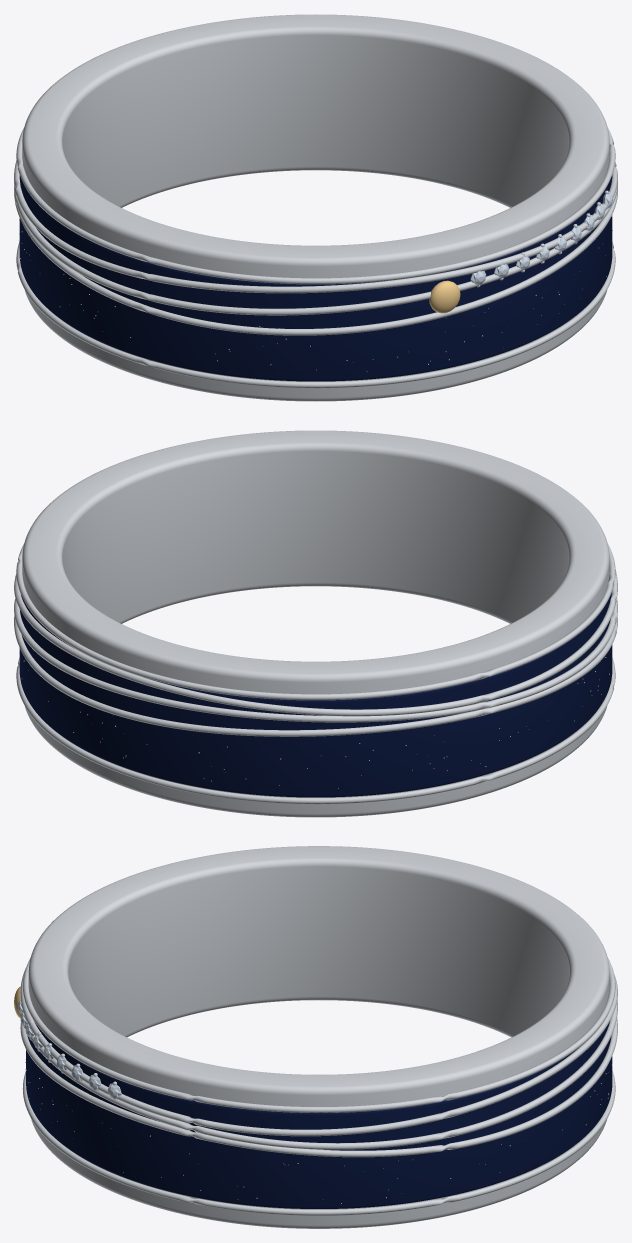
Rendered from emoria-echo.glb.
3 views of the same model, one above another, from view 1: azimuth 30°, elevation 25°; view 2: azimuth 150°, elevation 25°; view 3: azimuth 270°, elevation 25° (orthographic).
Visible parts, largest first — view 1: Polished silver, Midnight blue enamel, Brilliant crystal, Warm gold; view 2: Polished silver, Midnight blue enamel; view 3: Polished silver, Midnight blue enamel, Brilliant crystal.
Boxes of the visible parts, x1,y1,x2,y2 form: Polished silver: [14, 14, 617, 401]; Midnight blue enamel: [19, 175, 612, 381]; Brilliant crystal: [470, 192, 612, 284]; Warm gold: [429, 280, 460, 313]; Polished silver: [14, 430, 617, 817]; Midnight blue enamel: [19, 592, 612, 797]; Polished silver: [20, 846, 617, 1228]; Midnight blue enamel: [26, 1021, 612, 1208]; Brilliant crystal: [18, 1000, 121, 1099].
Bounding box in the file's own units: 0.0203 × 0.0053 × 0.0205.
